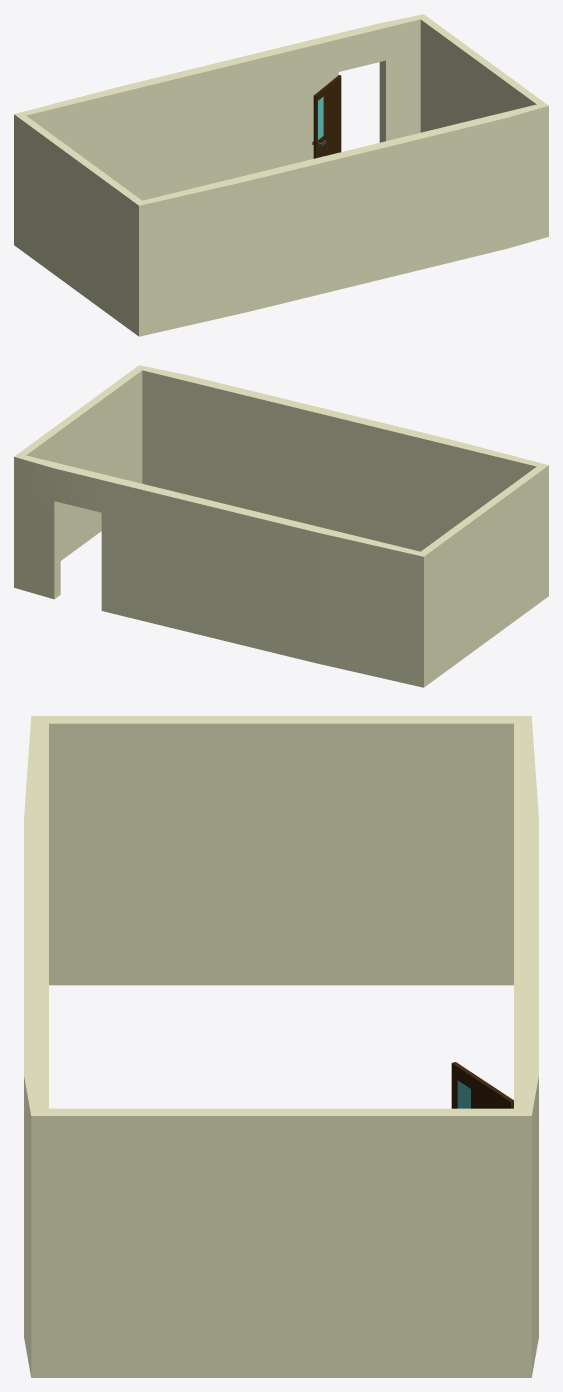
The model's file is OpenRoom.FBX.
3 renders of one model, top to bottom at view 1: azimuth 30°, elevation 25°; view 2: azimuth 150°, elevation 25°; view 3: azimuth 270°, elevation 25°, orthographic. The views are drawn at different scales.
Visible parts, largest first — view 1: Box002, Door12; view 2: Box002; view 3: Box002, Door12.
Boxes of the visible parts, x1=… form: Box002: x1=14, y1=14, x2=548, y2=336; Door12: x1=312, y1=75, x2=341, y2=158; Box002: x1=14, y1=365, x2=548, y2=687; Box002: x1=24, y1=716, x2=538, y2=1377; Door12: x1=451, y1=1062, x2=513, y2=1108.
Bounding box in the file's own units: 29.66 × 9.06 × 16.14.
